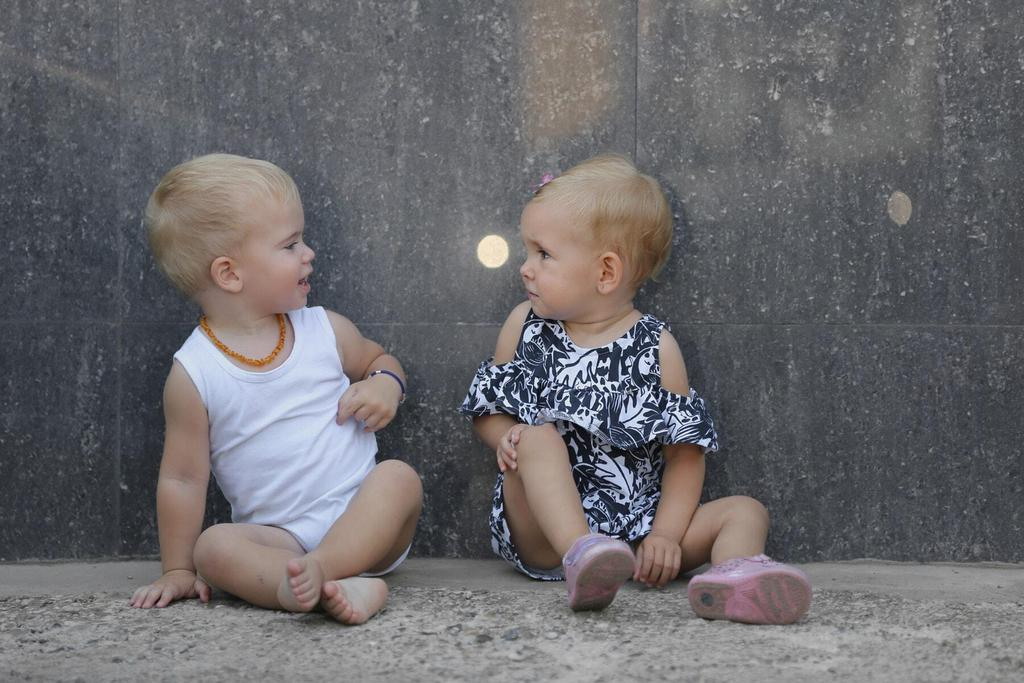child: (459, 148, 829, 631), (97, 147, 427, 637)
